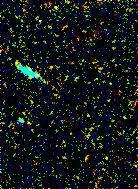star: (20, 61, 50, 91)
